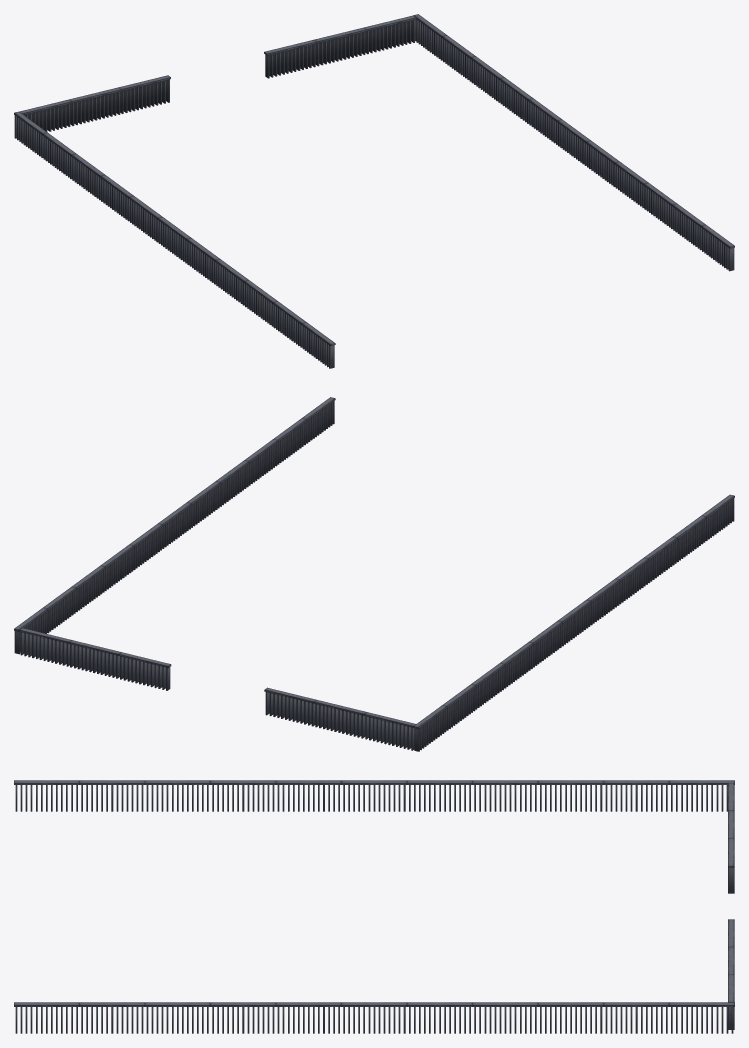
The model's file is fence.fbx.
3 renders of one model, top to bottom at view 1: azimuth 30°, elevation 25°; view 2: azimuth 150°, elevation 25°; view 3: azimuth 270°, elevation 25°, orthographic. The views are drawn at different scales.
Parts seen in each view (by area): view 1: pasted__WallOverWorld4 (×3), pasted__WallOverWorld2 (×3), pasted__WallOverWorld3 (×3), pasted__WallOverWorld12 (×2), pasted__WallOverWorld5 (×2), pasted__WallOverWorld11 (×2), pasted__WallOverWorld10 (×2), pasted__WallOverWorld7 (×2), pasted__WallOverWorld8 (×2), pasted__WallOverWorld9 (×2), pasted__WallOverWorld6 (×2), WallOverWorld3 (+2 smaller); view 2: pasted__WallOverWorld4 (×3), pasted__WallOverWorld2 (×3), pasted__WallOverWorld3 (×3), pasted__WallOverWorld5 (×2), pasted__WallOverWorld11 (×2), pasted__WallOverWorld7 (×2), pasted__WallOverWorld9 (×2), pasted__WallOverWorld12 (×2), pasted__WallOverWorld8 (×2), pasted__WallOverWorld10 (×2), pasted__WallOverWorld6 (×2), WallOverWorld2 (+2 smaller); view 3: pasted__WallOverWorld8 (×2), pasted__WallOverWorld7 (×2), pasted__WallOverWorld5 (×2), pasted__WallOverWorld10 (×2), pasted__WallOverWorld11 (×2), pasted__WallOverWorld9 (×2), pasted__WallOverWorld12 (×2), pasted__WallOverWorld2 (×2), pasted__WallOverWorld6 (×2), pasted__WallOverWorld4 (×2), pasted__WallOverWorld3 (×2).
Boxes of the visible parts, box(x1,y1,x2,y2) form: pasted__WallOverWorld4 (×3): box(71, 39, 504, 200); pasted__WallOverWorld2 (×3): box(186, 15, 619, 284); pasted__WallOverWorld3 (×3): box(129, 27, 561, 242); pasted__WallOverWorld12 (×2): box(301, 225, 734, 368); pasted__WallOverWorld5 (×2): box(42, 35, 475, 179); pasted__WallOverWorld11 (×2): box(273, 203, 705, 347); pasted__WallOverWorld10 (×2): box(215, 161, 648, 305); pasted__WallOverWorld7 (×2): box(100, 77, 532, 221); pasted__WallOverWorld8 (×2): box(158, 119, 590, 263); pasted__WallOverWorld9 (×2): box(244, 182, 676, 326); pasted__WallOverWorld6 (×2): box(14, 14, 446, 157); WallOverWorld3: box(69, 87, 121, 125); pasted__WallOverWorld4 (×3): box(72, 565, 504, 709); pasted__WallOverWorld2 (×3): box(19, 481, 619, 666); pasted__WallOverWorld3 (×3): box(68, 523, 562, 678); pasted__WallOverWorld5 (×2): box(43, 586, 475, 730); pasted__WallOverWorld11 (×2): box(273, 418, 706, 562); pasted__WallOverWorld7 (×2): box(100, 544, 533, 688); pasted__WallOverWorld9 (×2): box(244, 439, 677, 583); pasted__WallOverWorld12 (×2): box(302, 397, 734, 540); pasted__WallOverWorld8 (×2): box(158, 502, 590, 646); pasted__WallOverWorld10 (×2): box(216, 460, 648, 604); pasted__WallOverWorld6 (×2): box(14, 608, 447, 751); WallOverWorld2: box(264, 687, 316, 726); pasted__WallOverWorld8 (×2): box(341, 780, 407, 1033); pasted__WallOverWorld7 (×2): box(472, 780, 538, 1033); pasted__WallOverWorld5 (×2): box(604, 780, 669, 1033); pasted__WallOverWorld10 (×2): box(210, 780, 275, 1033); pasted__WallOverWorld11 (×2): box(79, 780, 144, 1033); pasted__WallOverWorld9 (×2): box(145, 780, 210, 1033); pasted__WallOverWorld12 (×2): box(14, 780, 79, 1033); pasted__WallOverWorld2 (×2): box(276, 780, 341, 1033); pasted__WallOverWorld6 (×2): box(669, 780, 734, 1033); pasted__WallOverWorld4 (×2): box(538, 780, 603, 1033); pasted__WallOverWorld3 (×2): box(407, 780, 472, 1033).
Size of the model in its own units: 955 by 56.33 by 1295.
